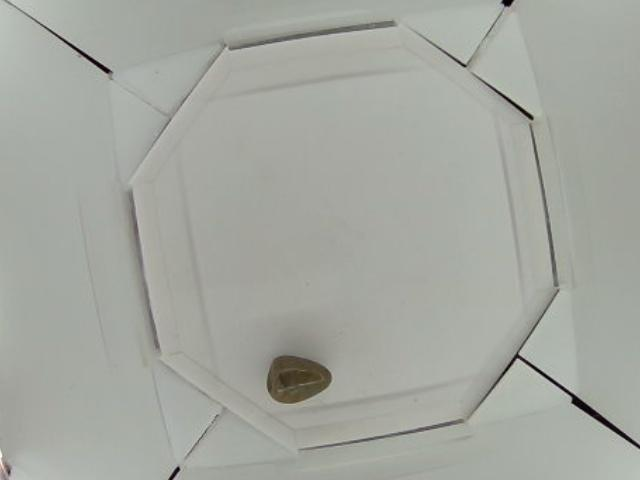Pebble: (264, 356, 329, 403)
